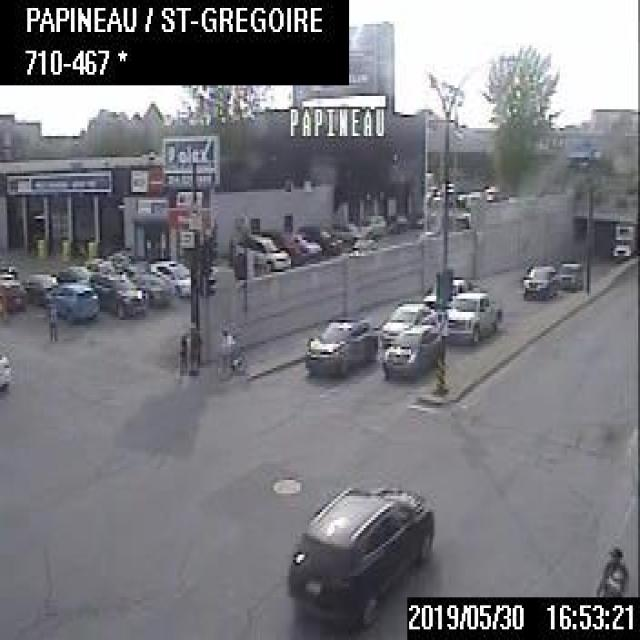cyclist: (591, 544, 631, 592), (212, 324, 246, 378)
pedestrian: (44, 283, 58, 341), (188, 327, 202, 378), (175, 328, 187, 379)
vehicle: (286, 482, 436, 618), (302, 313, 376, 381), (382, 318, 443, 380), (444, 293, 496, 352), (91, 267, 145, 317), (380, 299, 435, 340), (50, 278, 99, 322), (237, 232, 288, 270), (146, 257, 188, 297), (520, 256, 556, 301), (134, 267, 172, 305), (421, 276, 472, 304), (0, 266, 27, 317), (607, 218, 638, 258), (21, 272, 57, 305), (286, 229, 318, 263), (556, 259, 585, 293), (354, 210, 390, 236), (84, 255, 114, 276), (0, 344, 13, 392), (53, 263, 91, 278)
